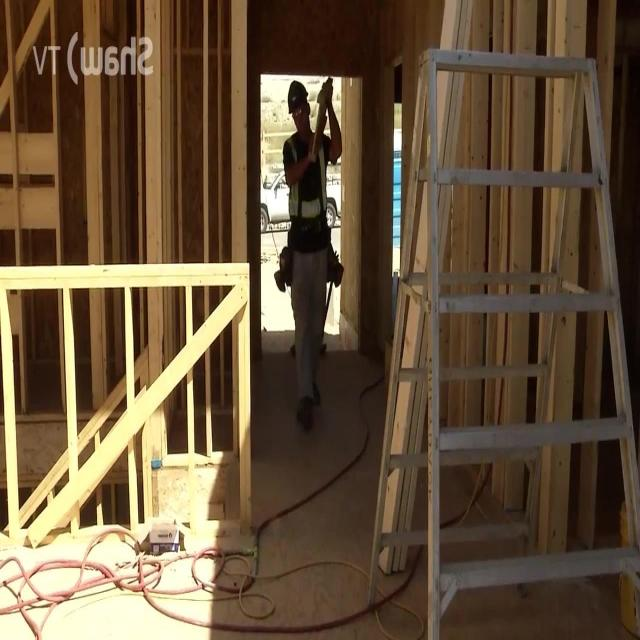Reflective-Jacket: (281, 123, 333, 239)
Safety-Helmet: (284, 76, 312, 112)
